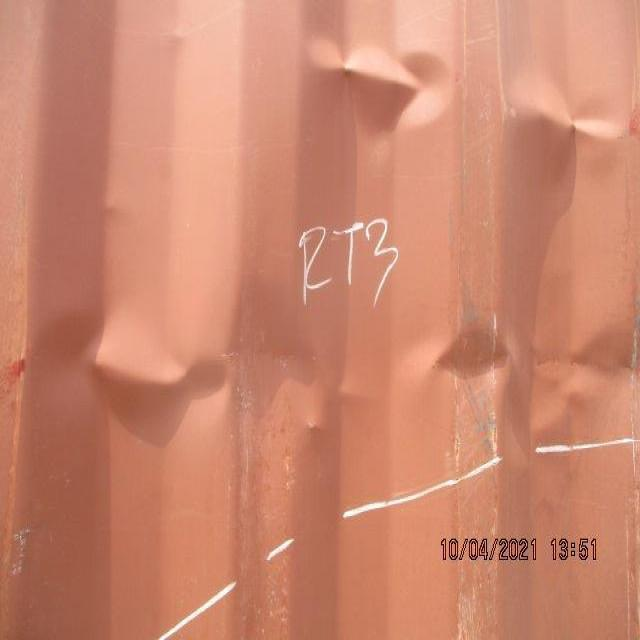Dent: (15, 260, 640, 473), (292, 22, 640, 198)
